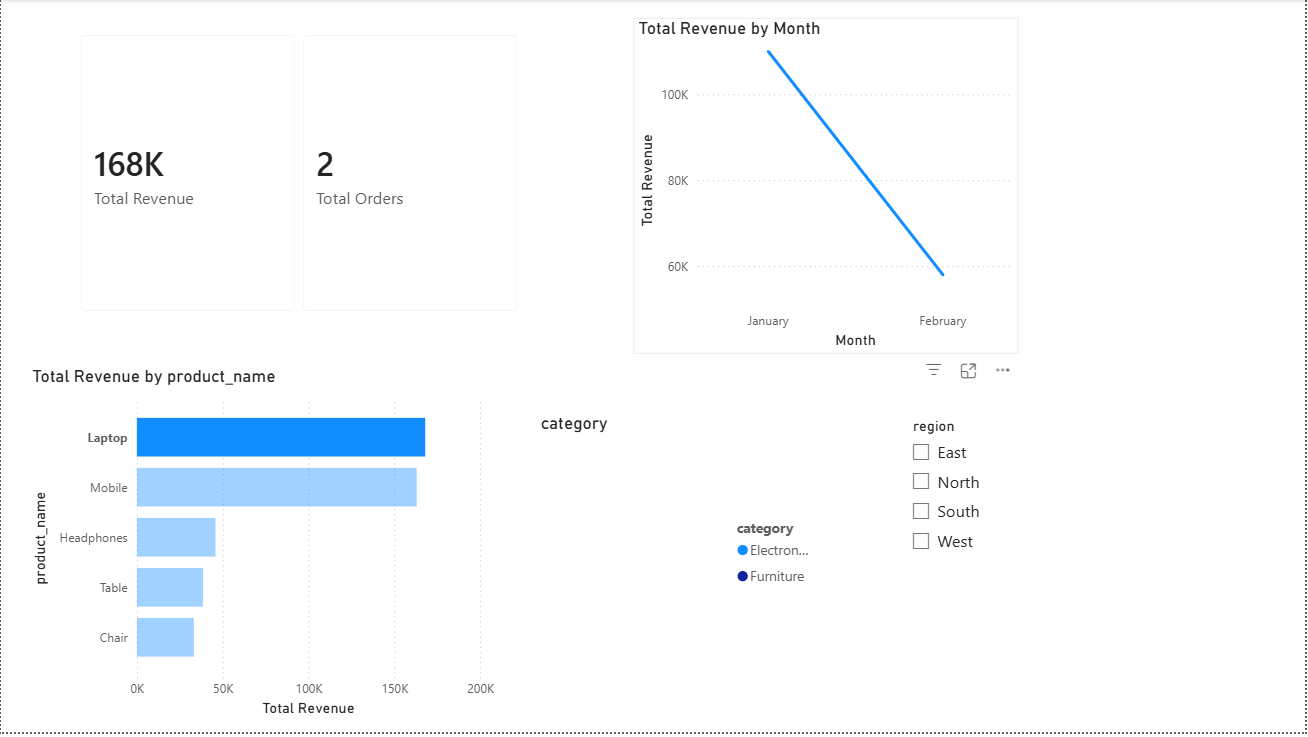

The dashboard page shown, as its layout file describes it:
{"tool":"powerbi","page":{"name":"Page 1","canvas":[1280,720],"ordinal":0},"visuals":[{"type":"lineChart","fields":{"Category":["sales.order_date.Variation.Date Hierarchy.Month"],"Y":["sales.Total Revenue"]},"box":[621.2,18.8,377.5,330],"z":3},{"type":"clusteredBarChart","fields":{"Category":["sales.product_name"],"Y":["sales.Total Revenue"]},"box":[26.2,360,463.8,350],"z":5},{"type":"pieChart","fields":{"Category":["sales.category"]},"box":[525,406.2,285,257.5],"z":6},{"type":"slicer","fields":{"Values":["sales.region"]},"box":[882.5,406.2,232.5,250],"z":7},{"type":"cardVisual","fields":{"Data":["sales.Total Revenue","sales.Total Orders"]},"box":[61.2,18.8,463.8,305],"z":8}]}

Visuals, with their boxes in screenshot pixels (x1, y1, x2, y2), scaled from the page's 1280x720 canvas onto the 1308x737 screenshot:
lineChart - sales.order_date.Variation.Date Hierarchy.Month x sales.Total Revenue: 635, 19, 1021, 357
clusteredBarChart - sales.product_name x sales.Total Revenue: 27, 368, 501, 727
pieChart - sales.category: 536, 416, 828, 679
slicer - sales.region: 902, 416, 1139, 672
cardVisual - sales.Total Revenue x sales.Total Orders: 63, 19, 536, 331
